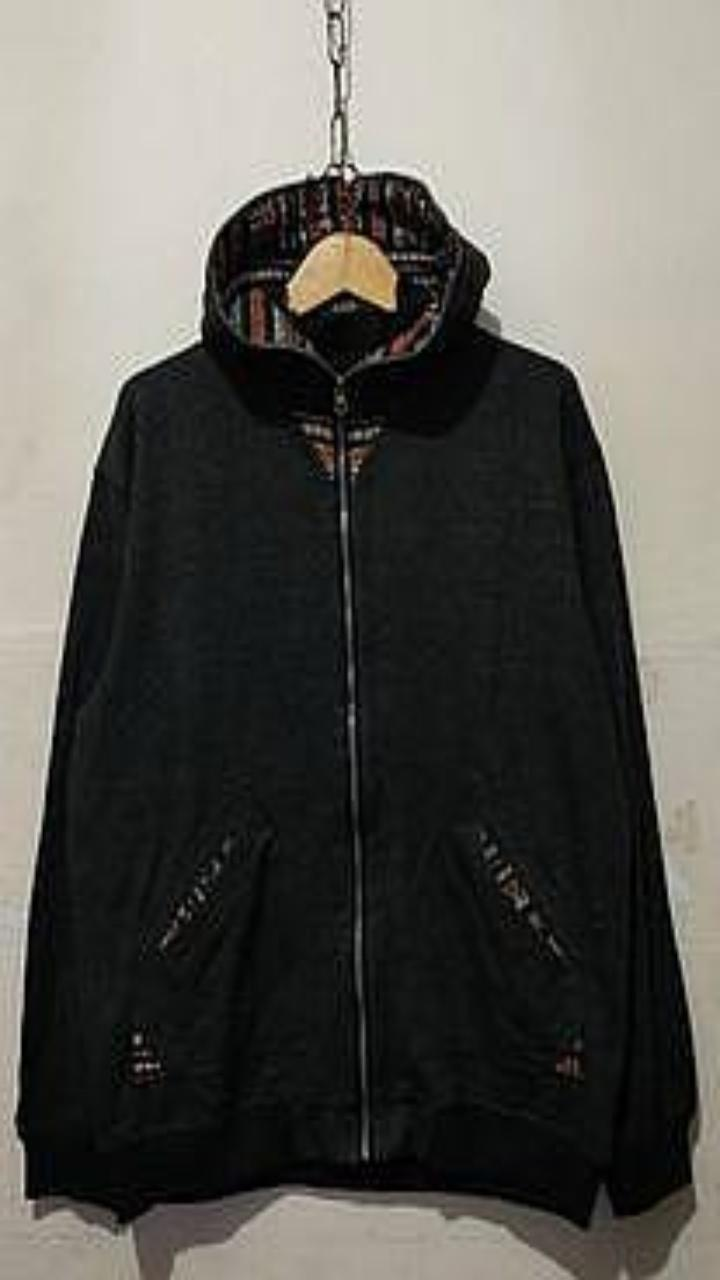Sports_Jacket: (16, 170, 696, 1227)
